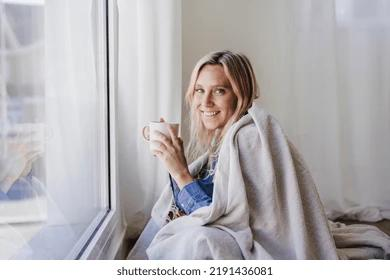blanket: (126, 103, 341, 261)
